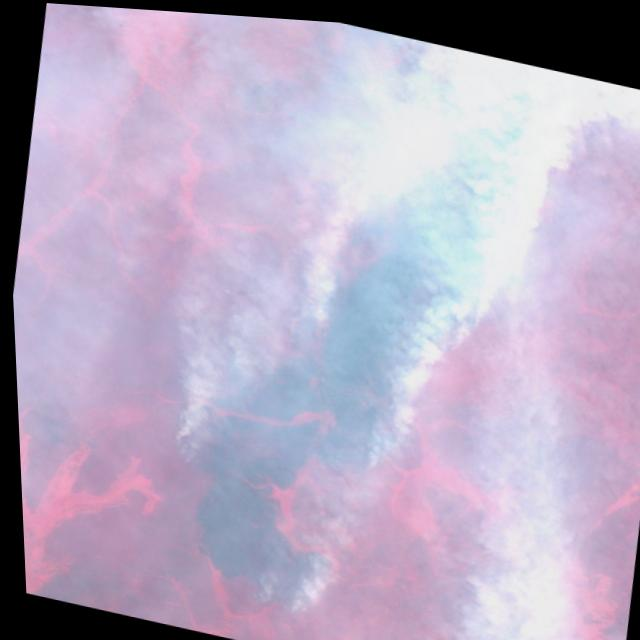fire: (118, 6, 588, 640)
